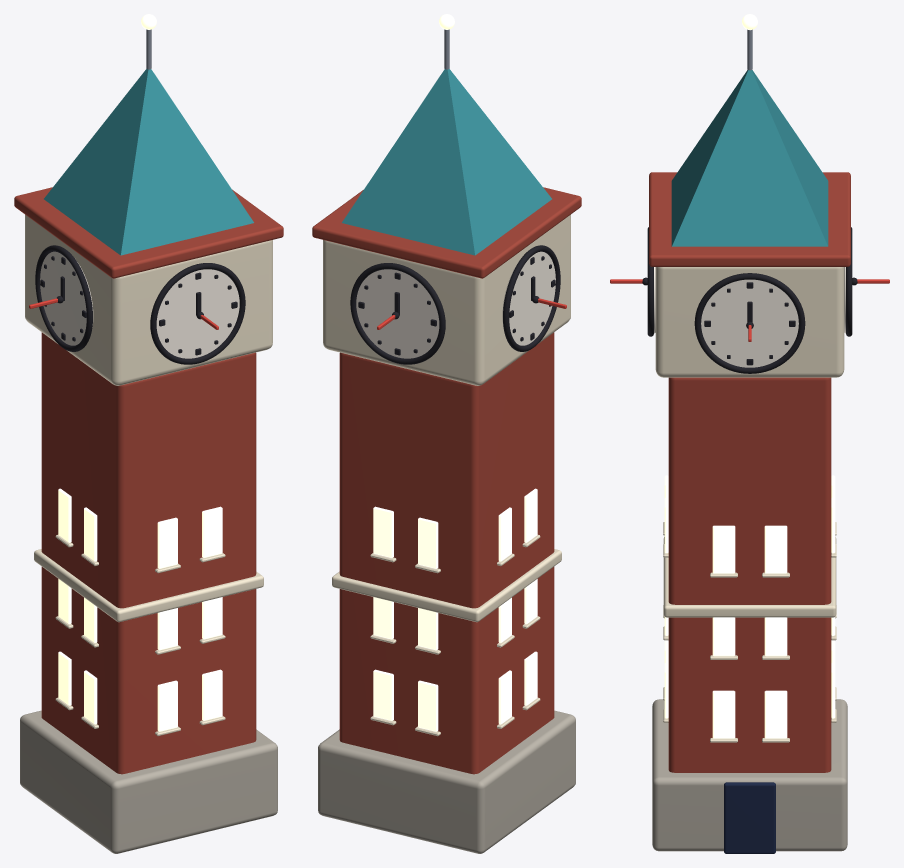
The model's file is clock_tower.glb.
The picture shows the model from 3 angles, left to right: view 1: azimuth 30°, elevation 25°; view 2: azimuth 150°, elevation 25°; view 3: azimuth 270°, elevation 25°; orthographic projection.
Parts seen in each view (by area): view 1: clock_tower; view 2: clock_tower; view 3: clock_tower.
Part boxes in pixels (x1,y1,x2,y2): clock_tower: [14, 14, 283, 853]; clock_tower: [312, 14, 581, 853]; clock_tower: [647, 14, 852, 853].
Size of the model in its own units: 8.6 by 27.05 by 8.6.
1 material, 1 textured.
